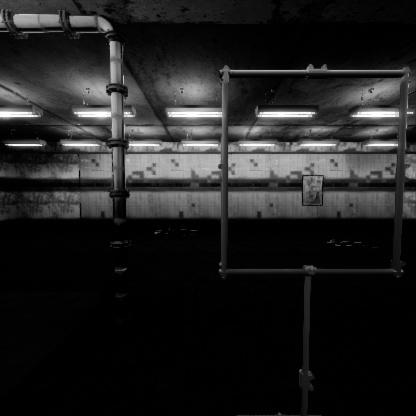gate: (221, 138, 416, 346)
